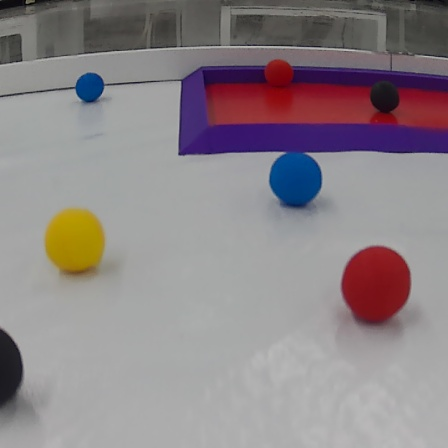black: (0, 324, 25, 408), (367, 75, 403, 116)
blue: (261, 149, 328, 212), (74, 70, 113, 104)
red: (338, 242, 415, 327), (265, 56, 296, 90)
red_aim: (179, 51, 448, 166)
yellow: (37, 206, 109, 278)
